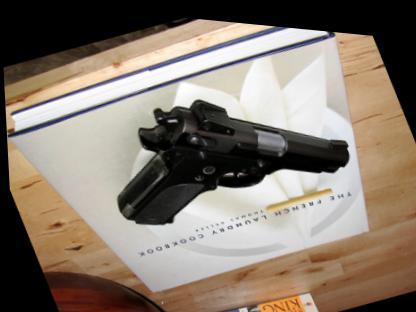pistol: (82, 41, 364, 252)
